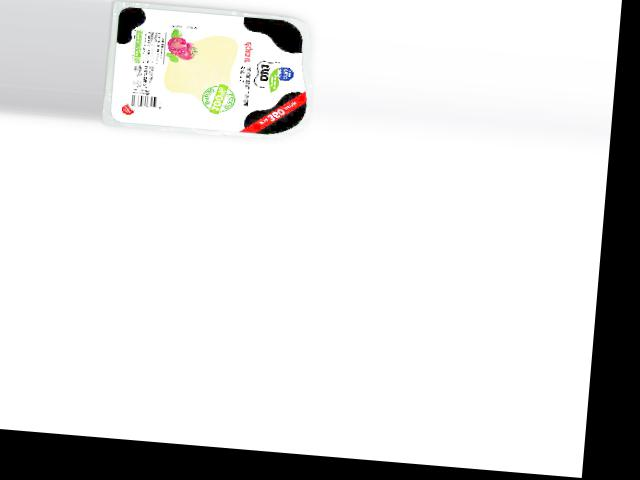cheese: (101, 0, 320, 143)
